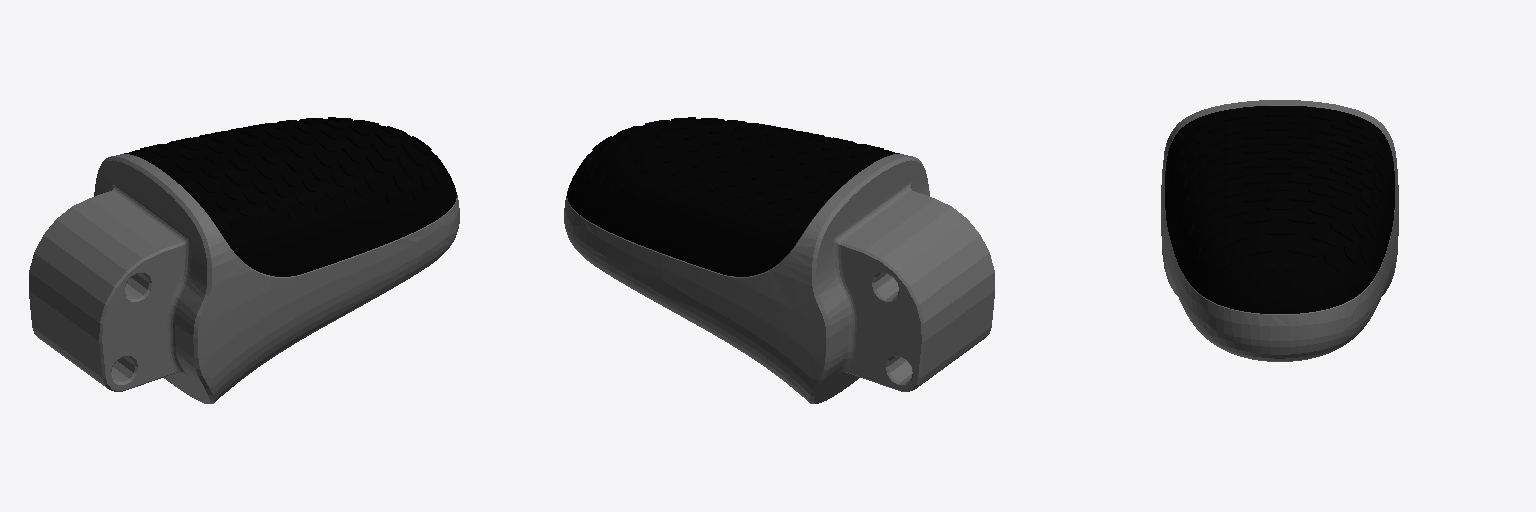
File: L_thumb_distal_link.obj
3 renders of one model, left to right at view 1: azimuth 30°, elevation 25°; view 2: azimuth 150°, elevation 25°; view 3: azimuth 270°, elevation 25°, orthographic.
Parts seen in each view (by area): view 1: L_thumb_distal_link; view 2: L_thumb_distal_link; view 3: L_thumb_distal_link.
Boxes of the visible parts, x1=… form: L_thumb_distal_link: x1=29, y1=117, x2=459, y2=403; L_thumb_distal_link: x1=564, y1=117, x2=994, y2=403; L_thumb_distal_link: x1=1161, y1=100, x2=1398, y2=361.
Bounding box in the file's own units: 0.0395 × 0.0213 × 0.0212.